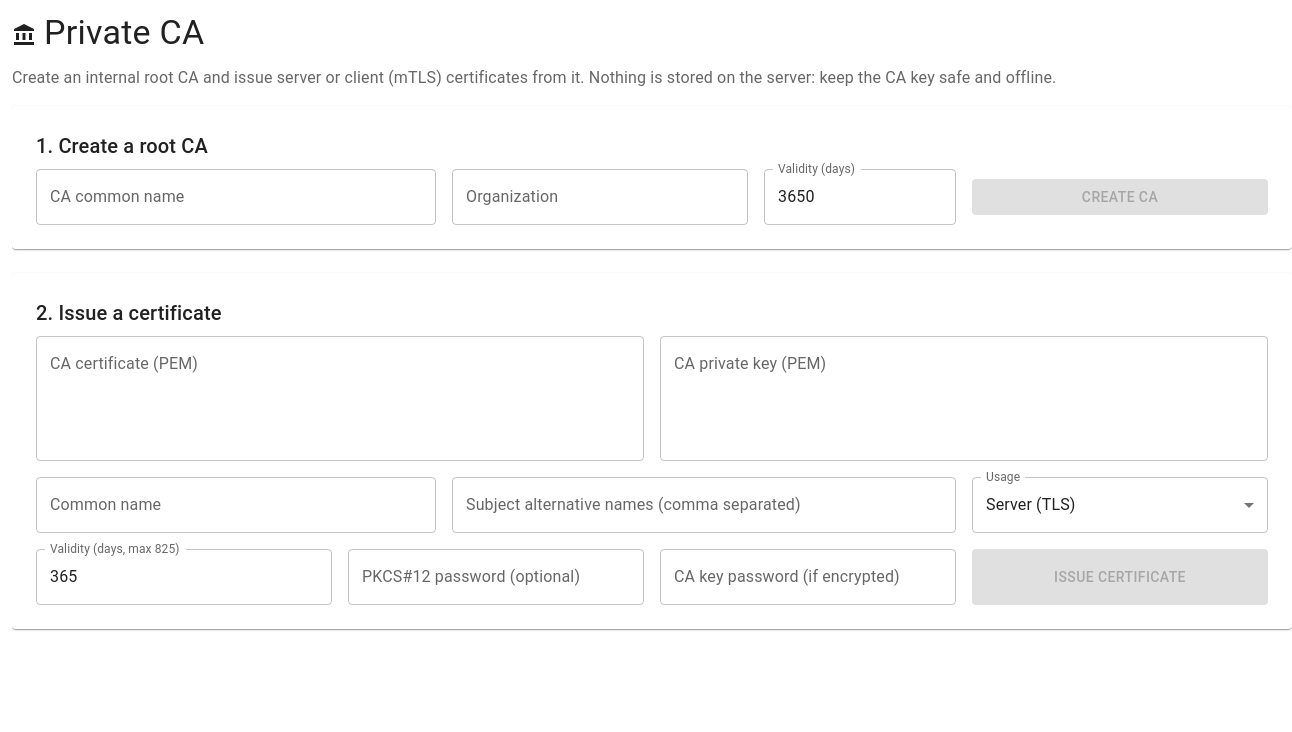
Test: issue is disabled until a CA and a name are present, and errors are shown
This screenshot has width=1292, height=732.
Expected: the button "Issue certificate" is disabled, [972,549,1268,605]
Type "x" into the field labelled "CA common name" at [236, 197], box [36,169,436,225]
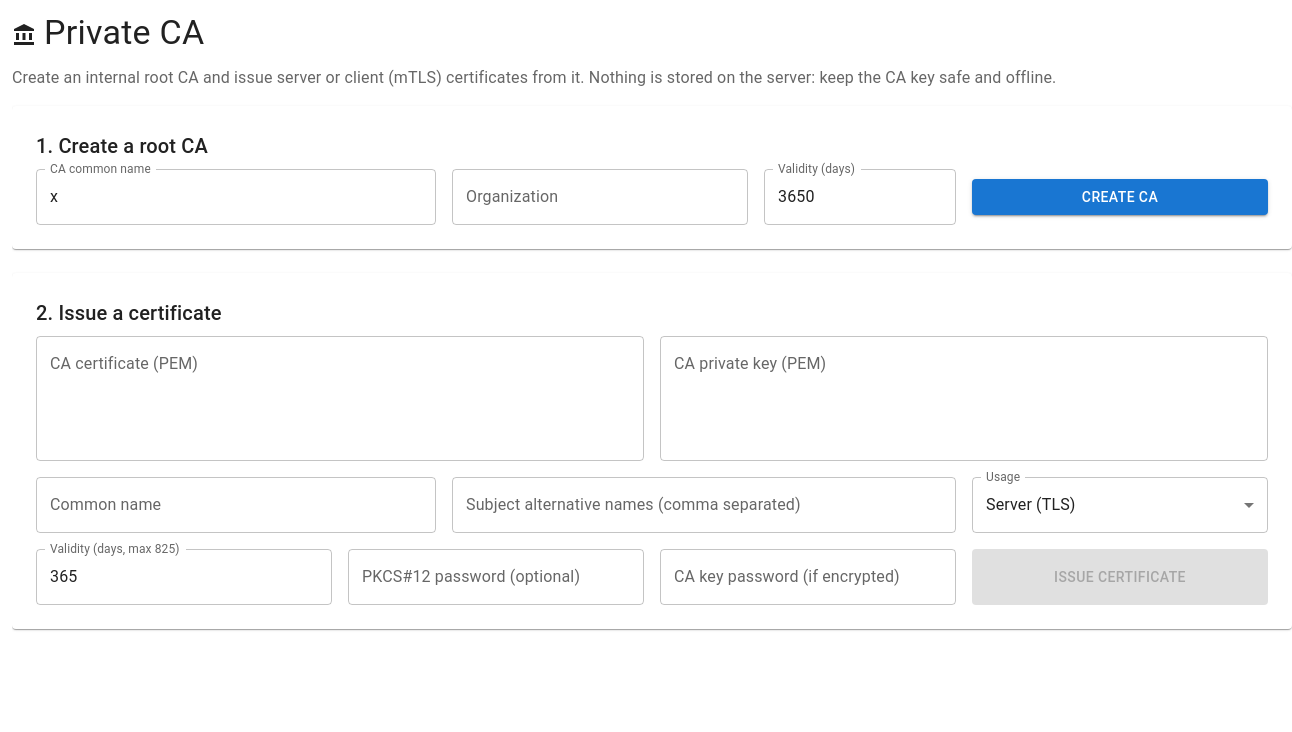
Click the button "Create CA" at [1120, 197], box [972,179,1268,215]
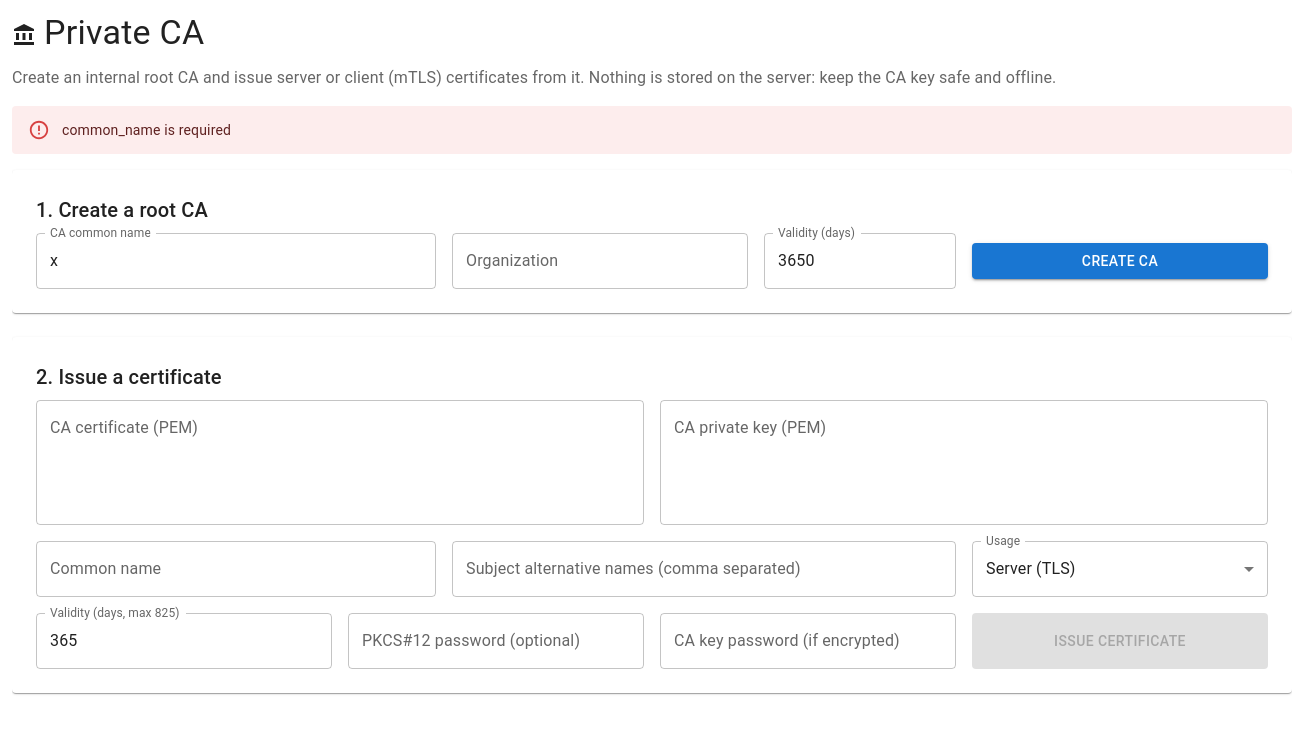
Expected: the text "common_name is required" is shown, [62,122,231,138]
